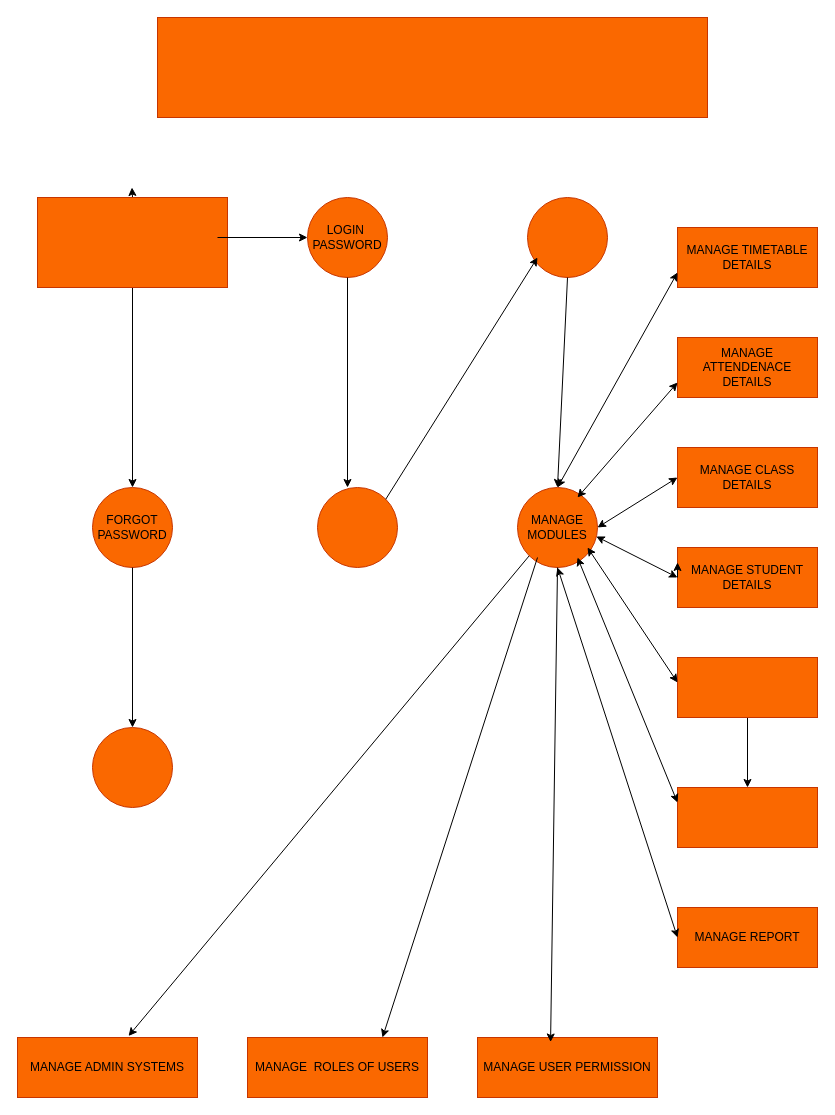
Some shapes in this 835 by 1115 pixel diagram are drawn without their labels. The box of each missing label's shape, as (x1, y1, x2, y2) in pixels:
ADMIN: (36, 196, 228, 288)
CHECK CREDENTIALS: (316, 486, 398, 568)
CHECK ROLES OF ACCESS: (526, 196, 608, 278)
MANAGE FEE DETAILS: (676, 656, 818, 718)
MANAGE TEACHER PROFILES: (676, 786, 818, 848)
STUDENT INFORMATION SYSTEM: (156, 16, 708, 118)
